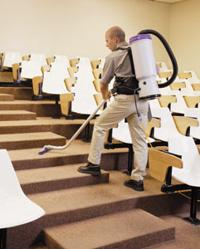person: (78, 27, 151, 193)
